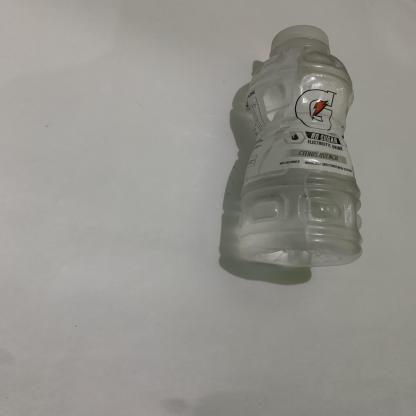Glass Bottle: (239, 25, 362, 267)
